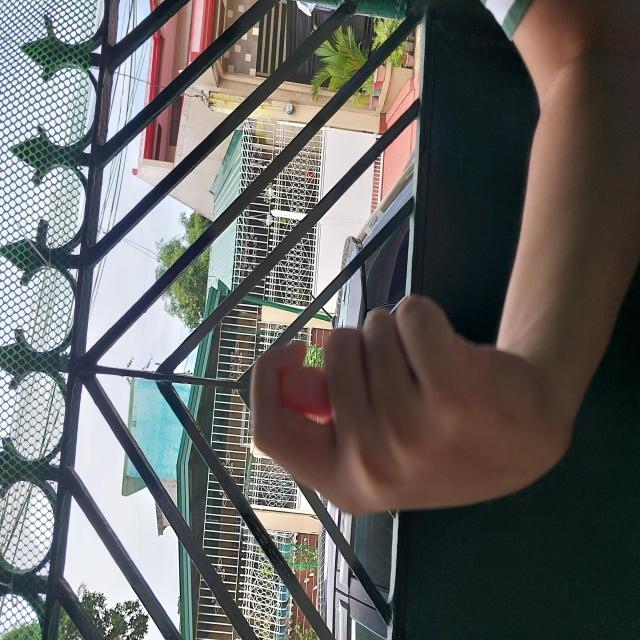T: (121, 248, 347, 568)
